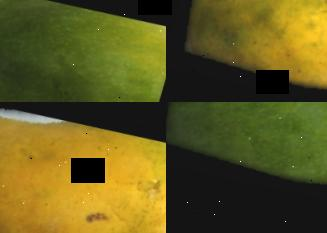Ripe: (0, 102, 166, 233), (166, 0, 327, 102)
Unripe: (166, 102, 327, 233), (0, 0, 166, 102)
